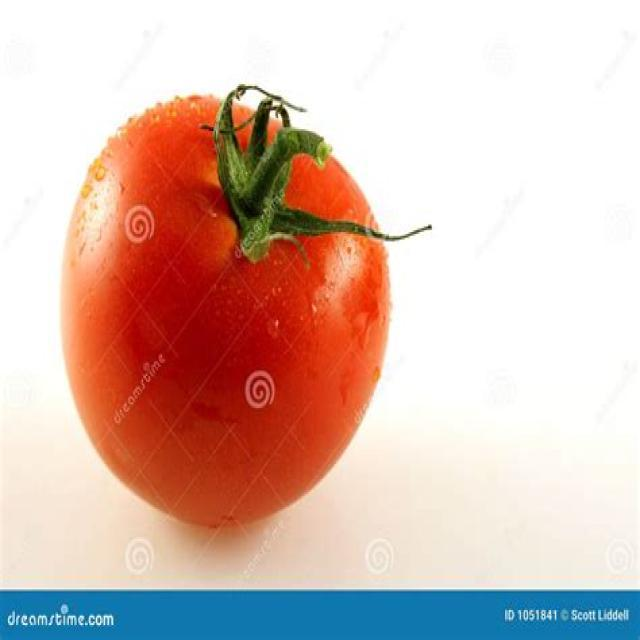Tomato: (55, 86, 394, 535)
